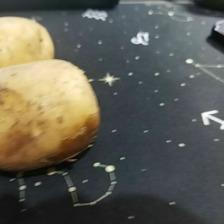Damaged potato: (0, 57, 102, 175)
Potato: (0, 13, 55, 101)
